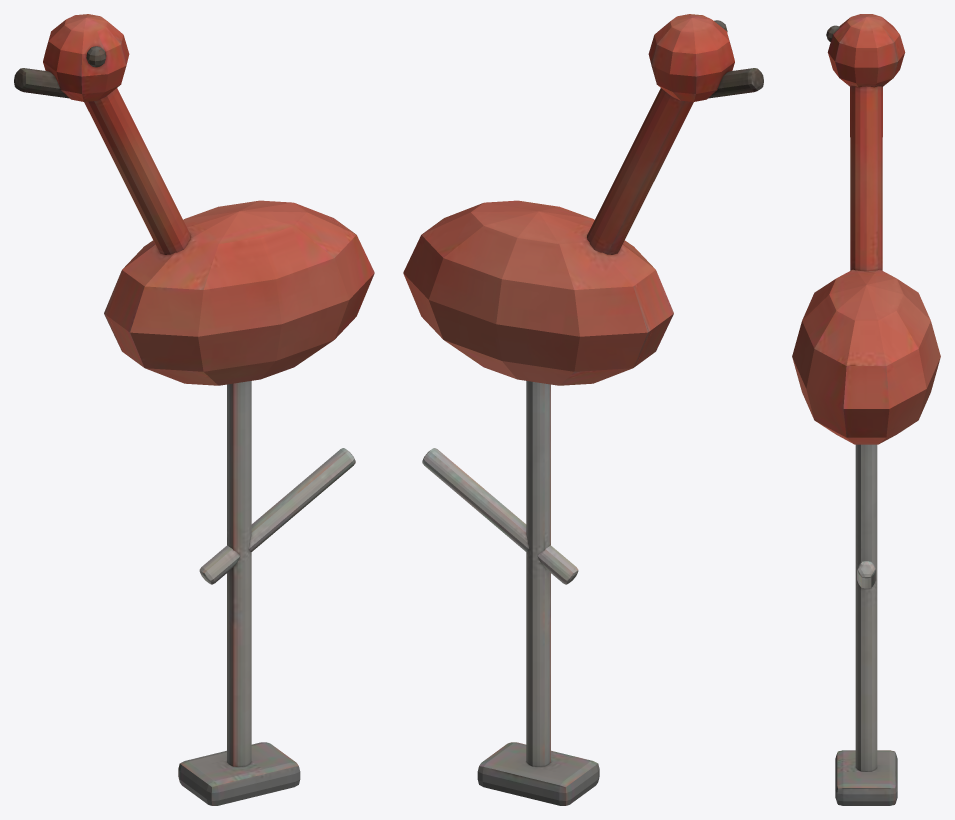
The model's file is decor_pipe_flamingo.glb.
The picture shows the model from 3 angles, left to right: view 1: azimuth 30°, elevation 25°; view 2: azimuth 150°, elevation 25°; view 3: azimuth 270°, elevation 25°; orthographic projection. The views are drawn at different scales.
Visible parts, largest first — view 1: PipeFlamingo_Mesh; view 2: PipeFlamingo_Mesh; view 3: PipeFlamingo_Mesh.
Part boxes in pixels (x1,y1,x2,y2): PipeFlamingo_Mesh: (14, 14, 374, 805); PipeFlamingo_Mesh: (403, 14, 763, 805); PipeFlamingo_Mesh: (792, 14, 940, 805).
Bounding box in the file's own units: 0.45 × 1.01 × 0.192.
Materials: 1 (1 with a texture image).
